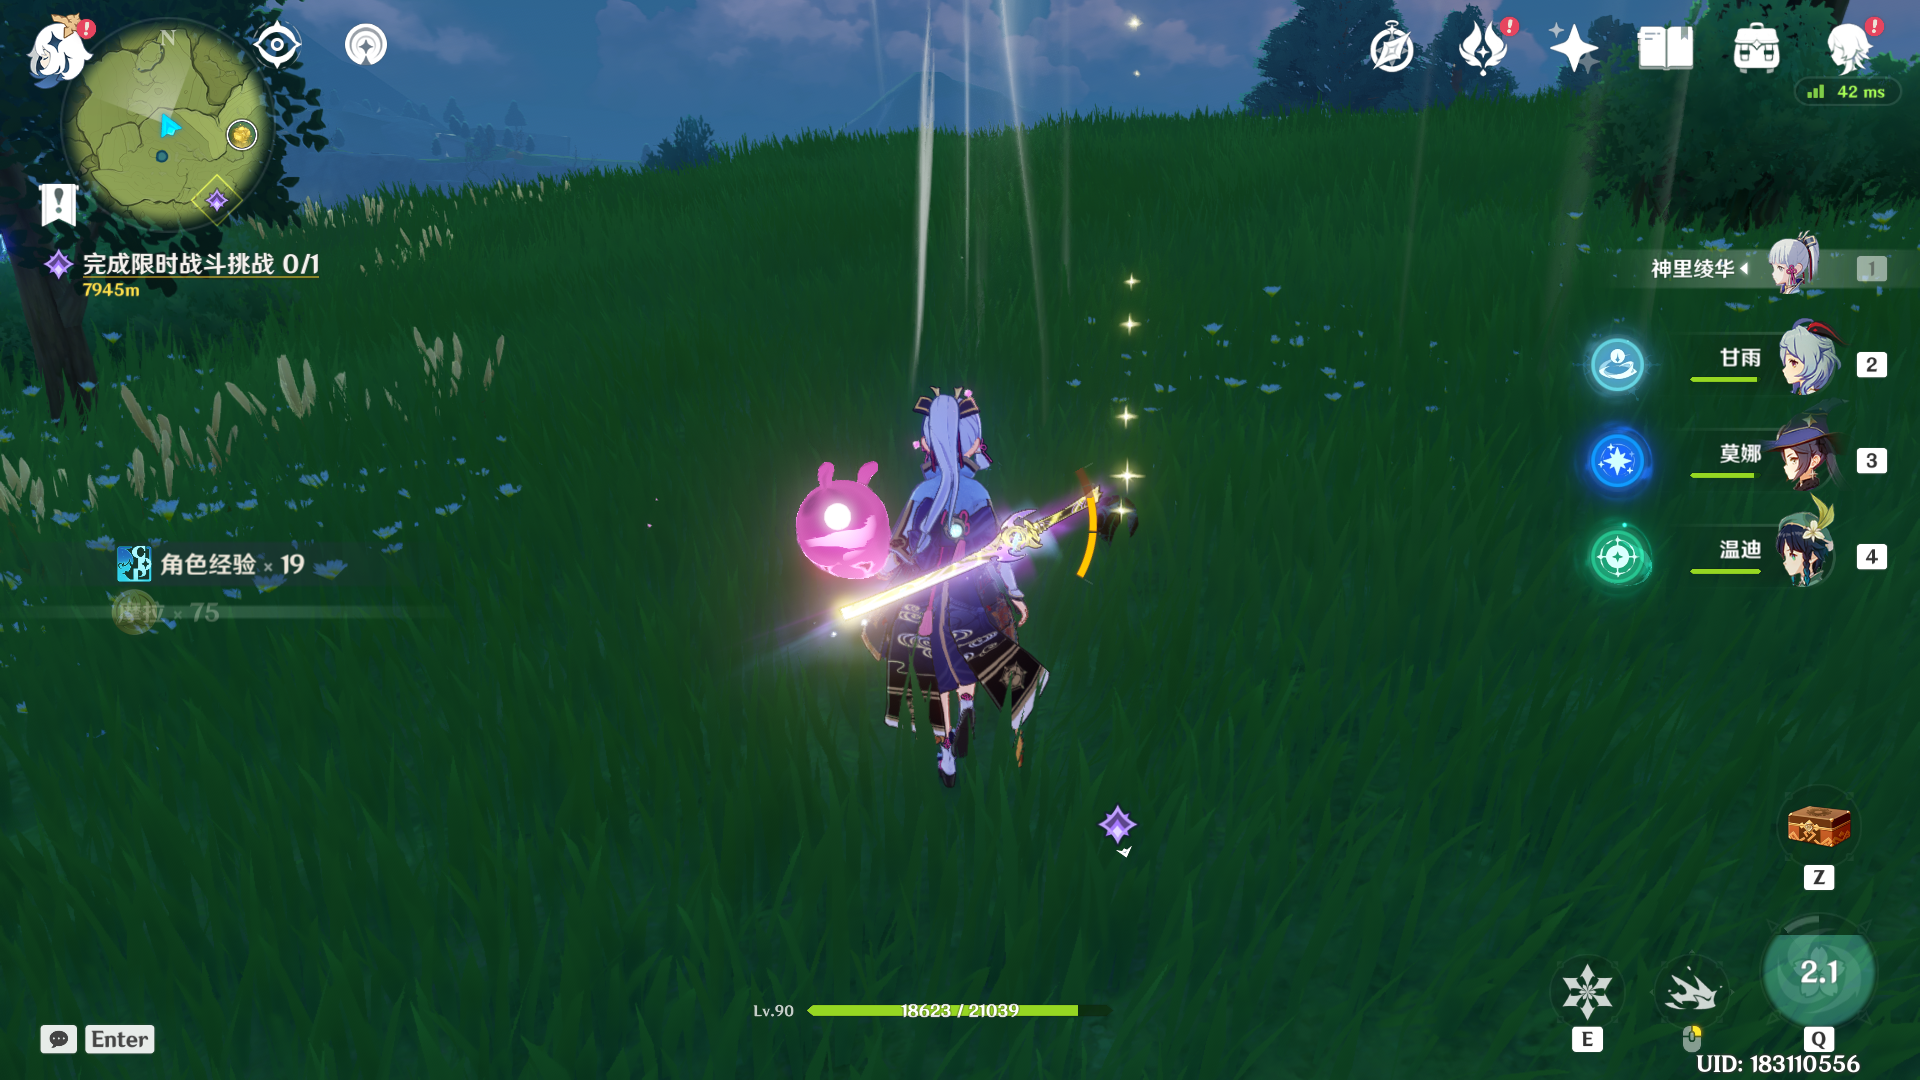character: (819, 394, 1100, 785)
